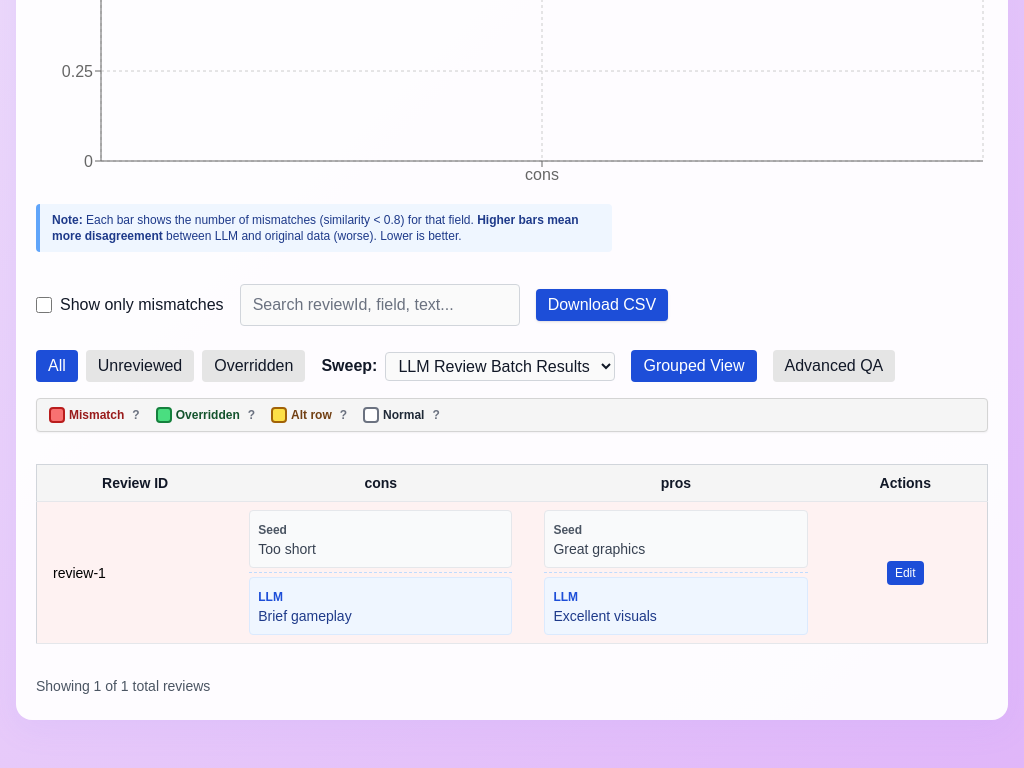
it: Dashboard › opens edit modal when edit button is clicked
(page scrolled)
Check: the text "review-1" is shown, box x1=36 y1=502 x2=233 y2=644
Click the button "Edit".
click(905, 572)  # box x1=887 y1=560 x2=924 y2=584
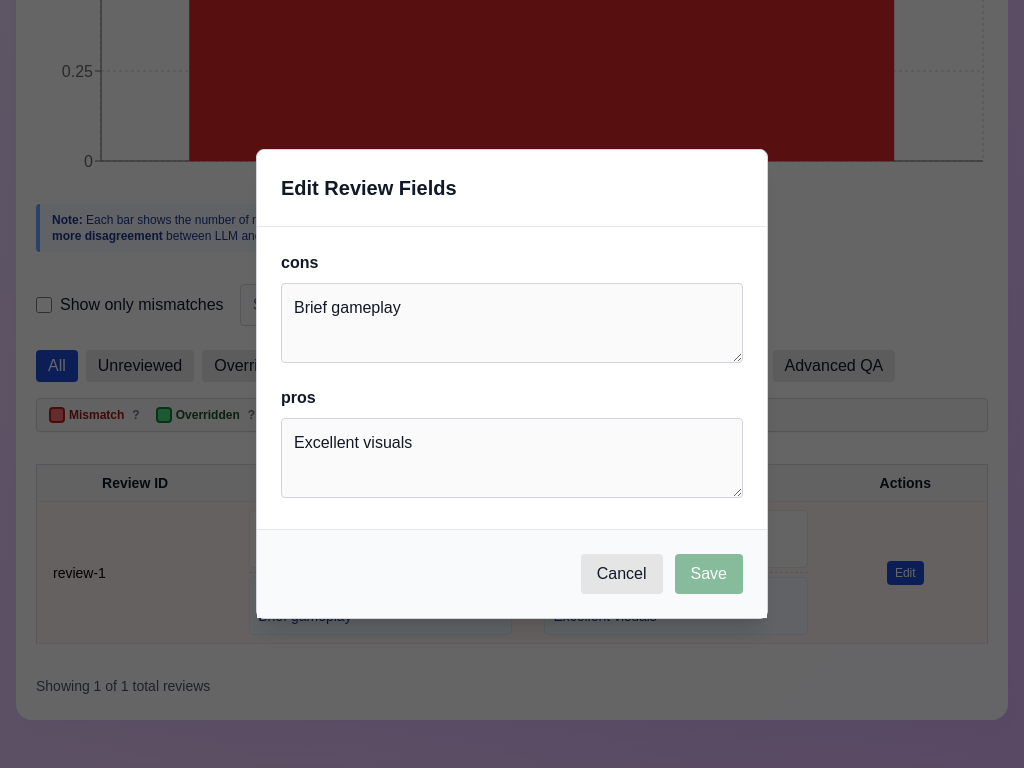
Check: the heading "Edit Review Fields" is shown, box x1=281 y1=177 x2=457 y2=199
Check: the button "Cancel" is shown, box x1=581 y1=554 x2=662 y2=594
Check: the button "Save" is shown, box x1=674 y1=554 x2=743 y2=594
